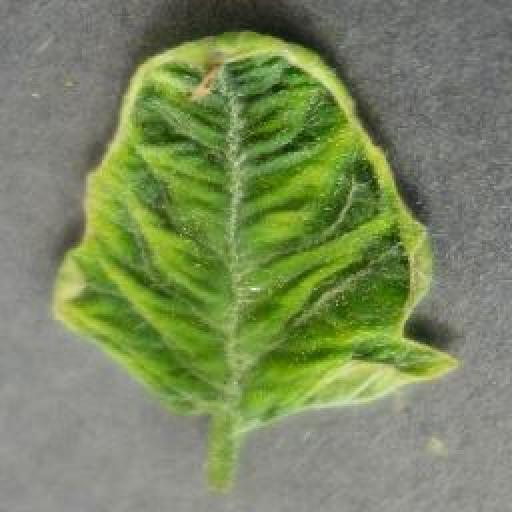disease_tomato: (48, 31, 461, 429)
